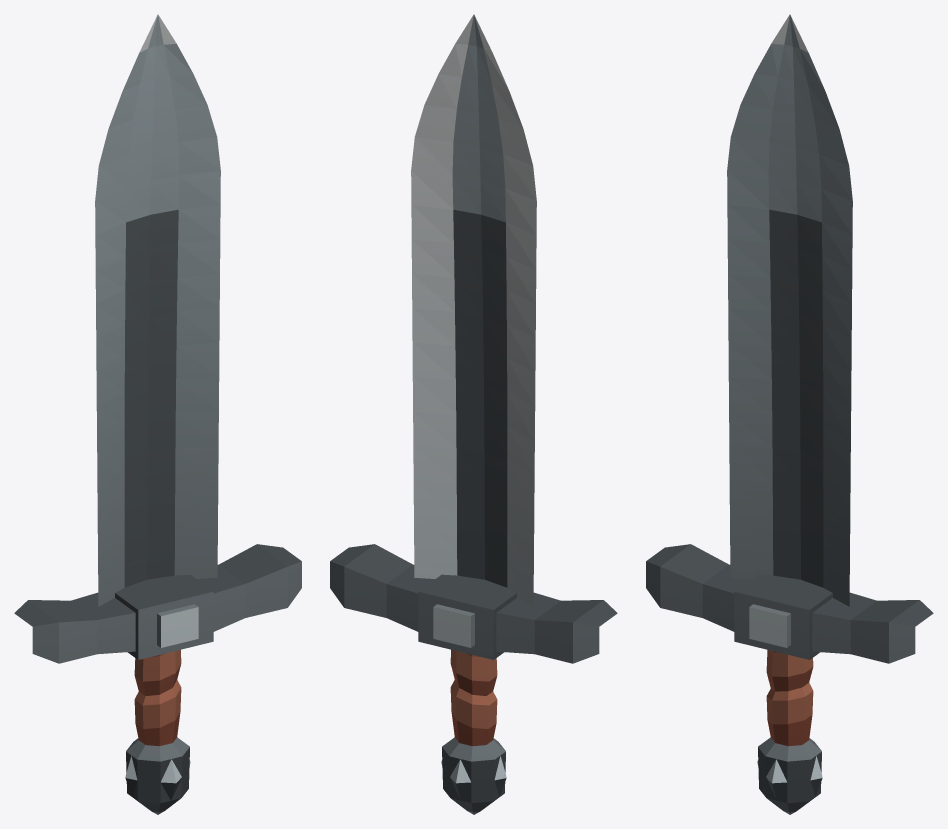
The model's file is source.glb.
3 renders of one model, left to right at view 1: azimuth 30°, elevation 25°; view 2: azimuth 150°, elevation 25°; view 3: azimuth 330°, elevation 25°, orthographic.
Visible parts, largest first — view 1: model; view 2: model; view 3: model.
Part boxes in pixels (<box>): model: <box>14,14,301,814</box>; model: <box>330,14,617,814</box>; model: <box>646,14,933,814</box>.
Bounding box in the file's own units: 0.64 × 1.82 × 0.18.
1 material, 1 textured.
